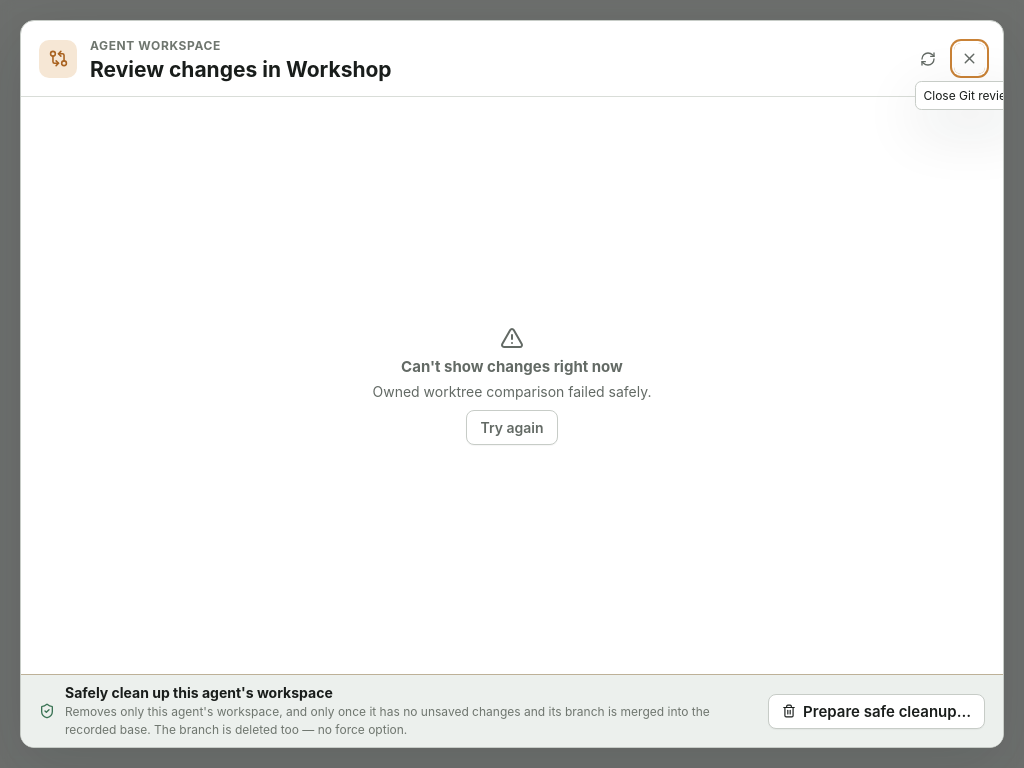
Scenario: GitReviewDialog › keeps an ordinary unavailable agent review neutral without explicit recovery intent
The width and height of the screenshot is (1024, 768).
Check: the text "Can't show changes right now" is shown, box [401, 357, 623, 376]
Check: the text "Agent workspace" is shown, box [90, 38, 221, 53]
Click the button "Prepare safe cleanup…".
click(877, 711)  # box [768, 694, 985, 729]
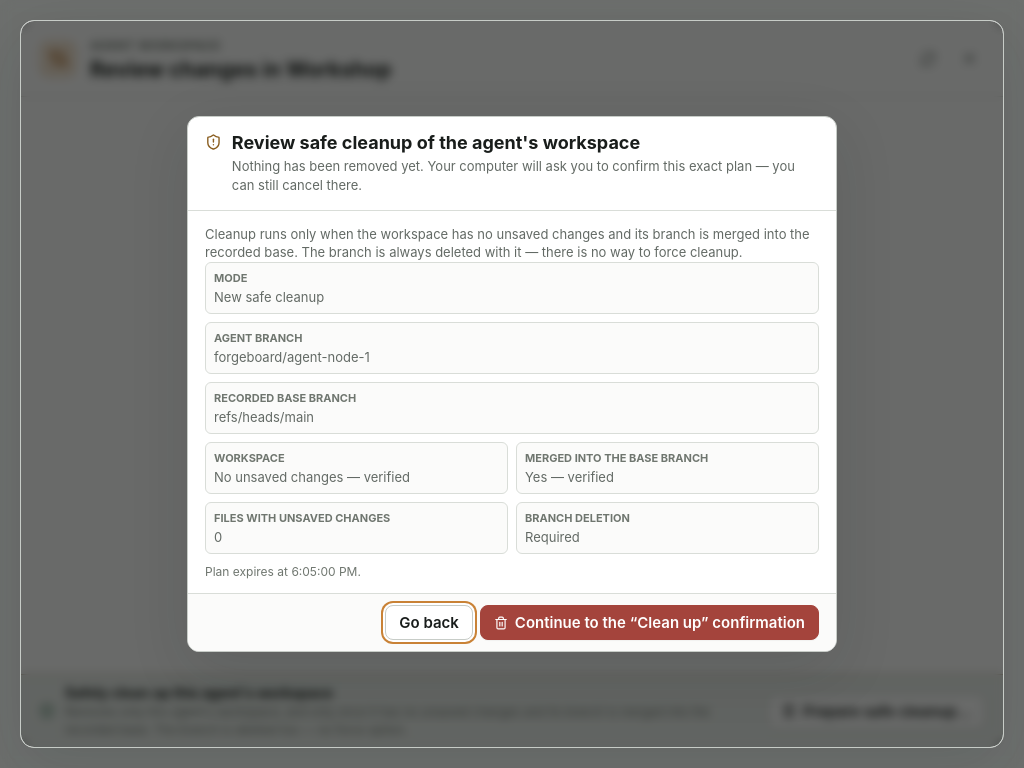
Check: the dialog "Review safe cleanup of the agent's workspace" is shown, box [187, 116, 837, 652]
